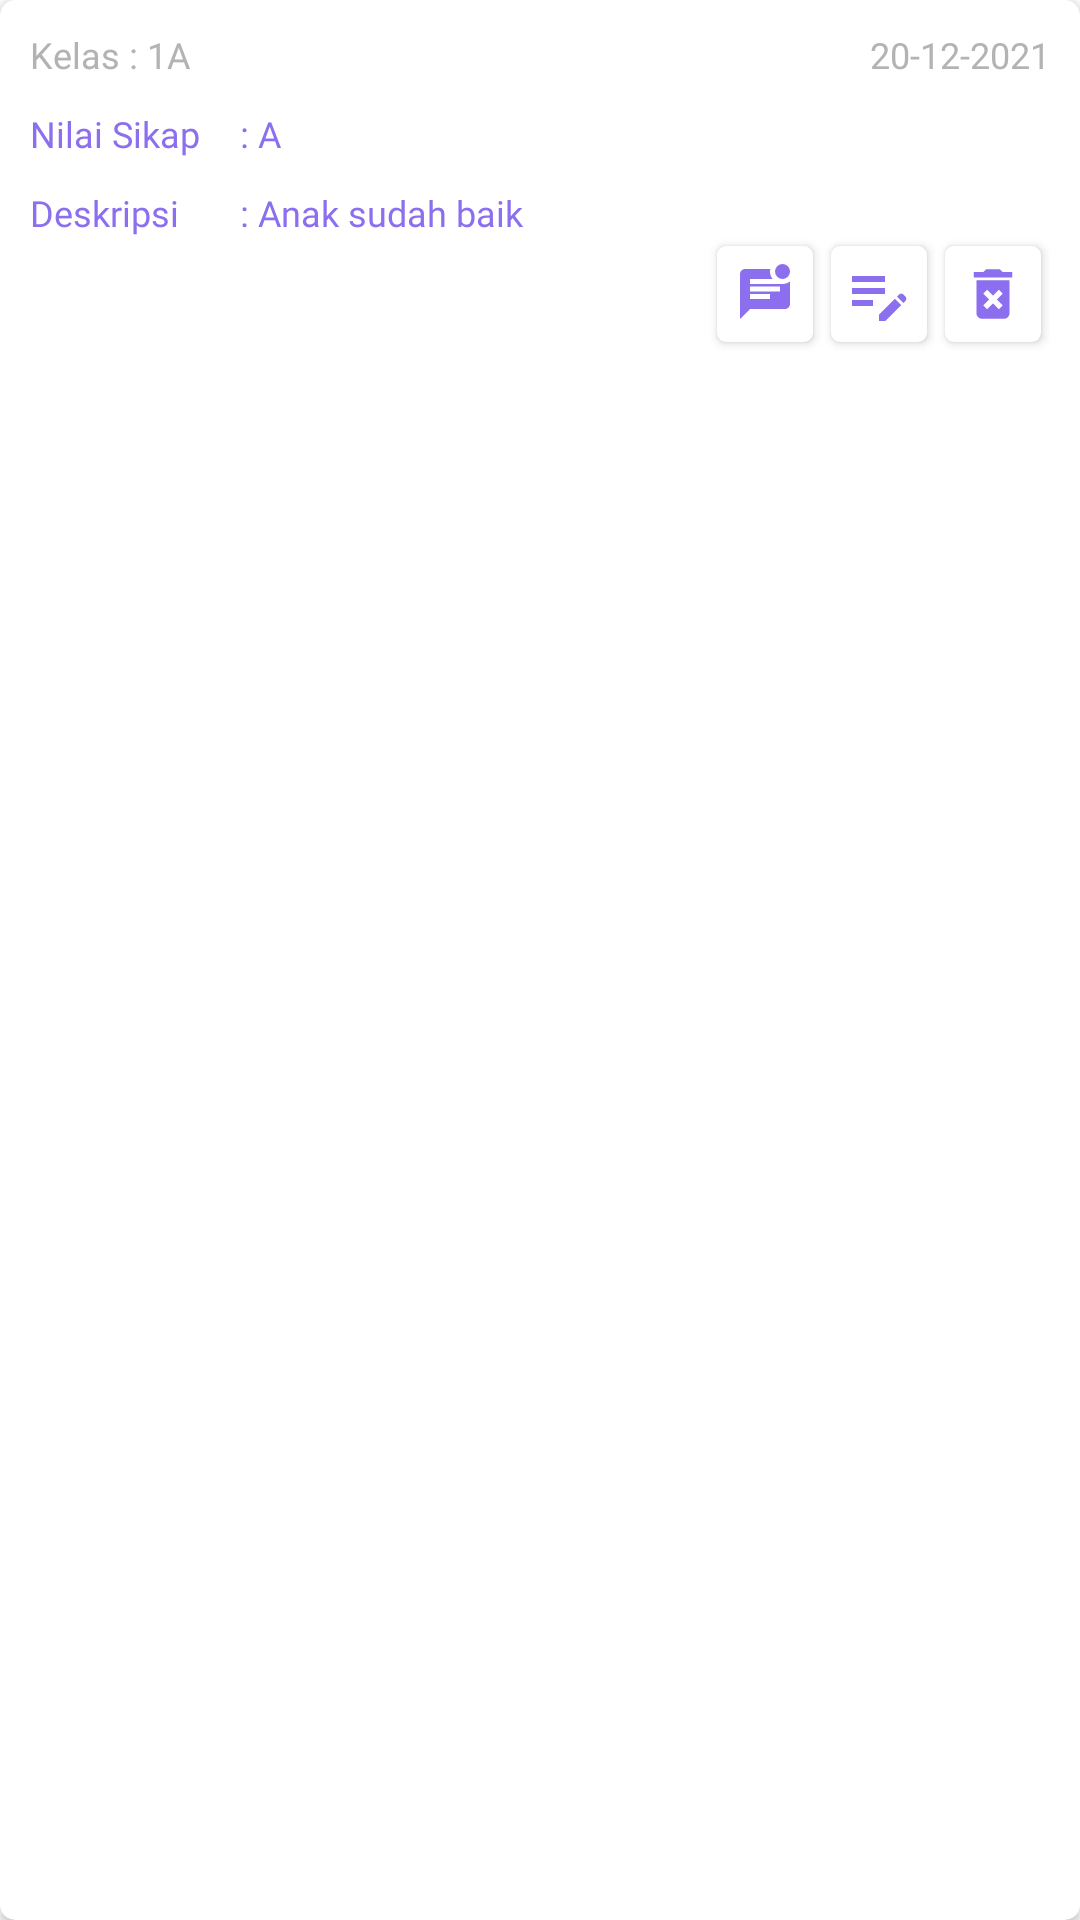

Icons on this 1080×1920 Android screen, each with the point to tap as [x,y]:
chat: [765,291]
delete: [993,294]
edit: [879,298]
